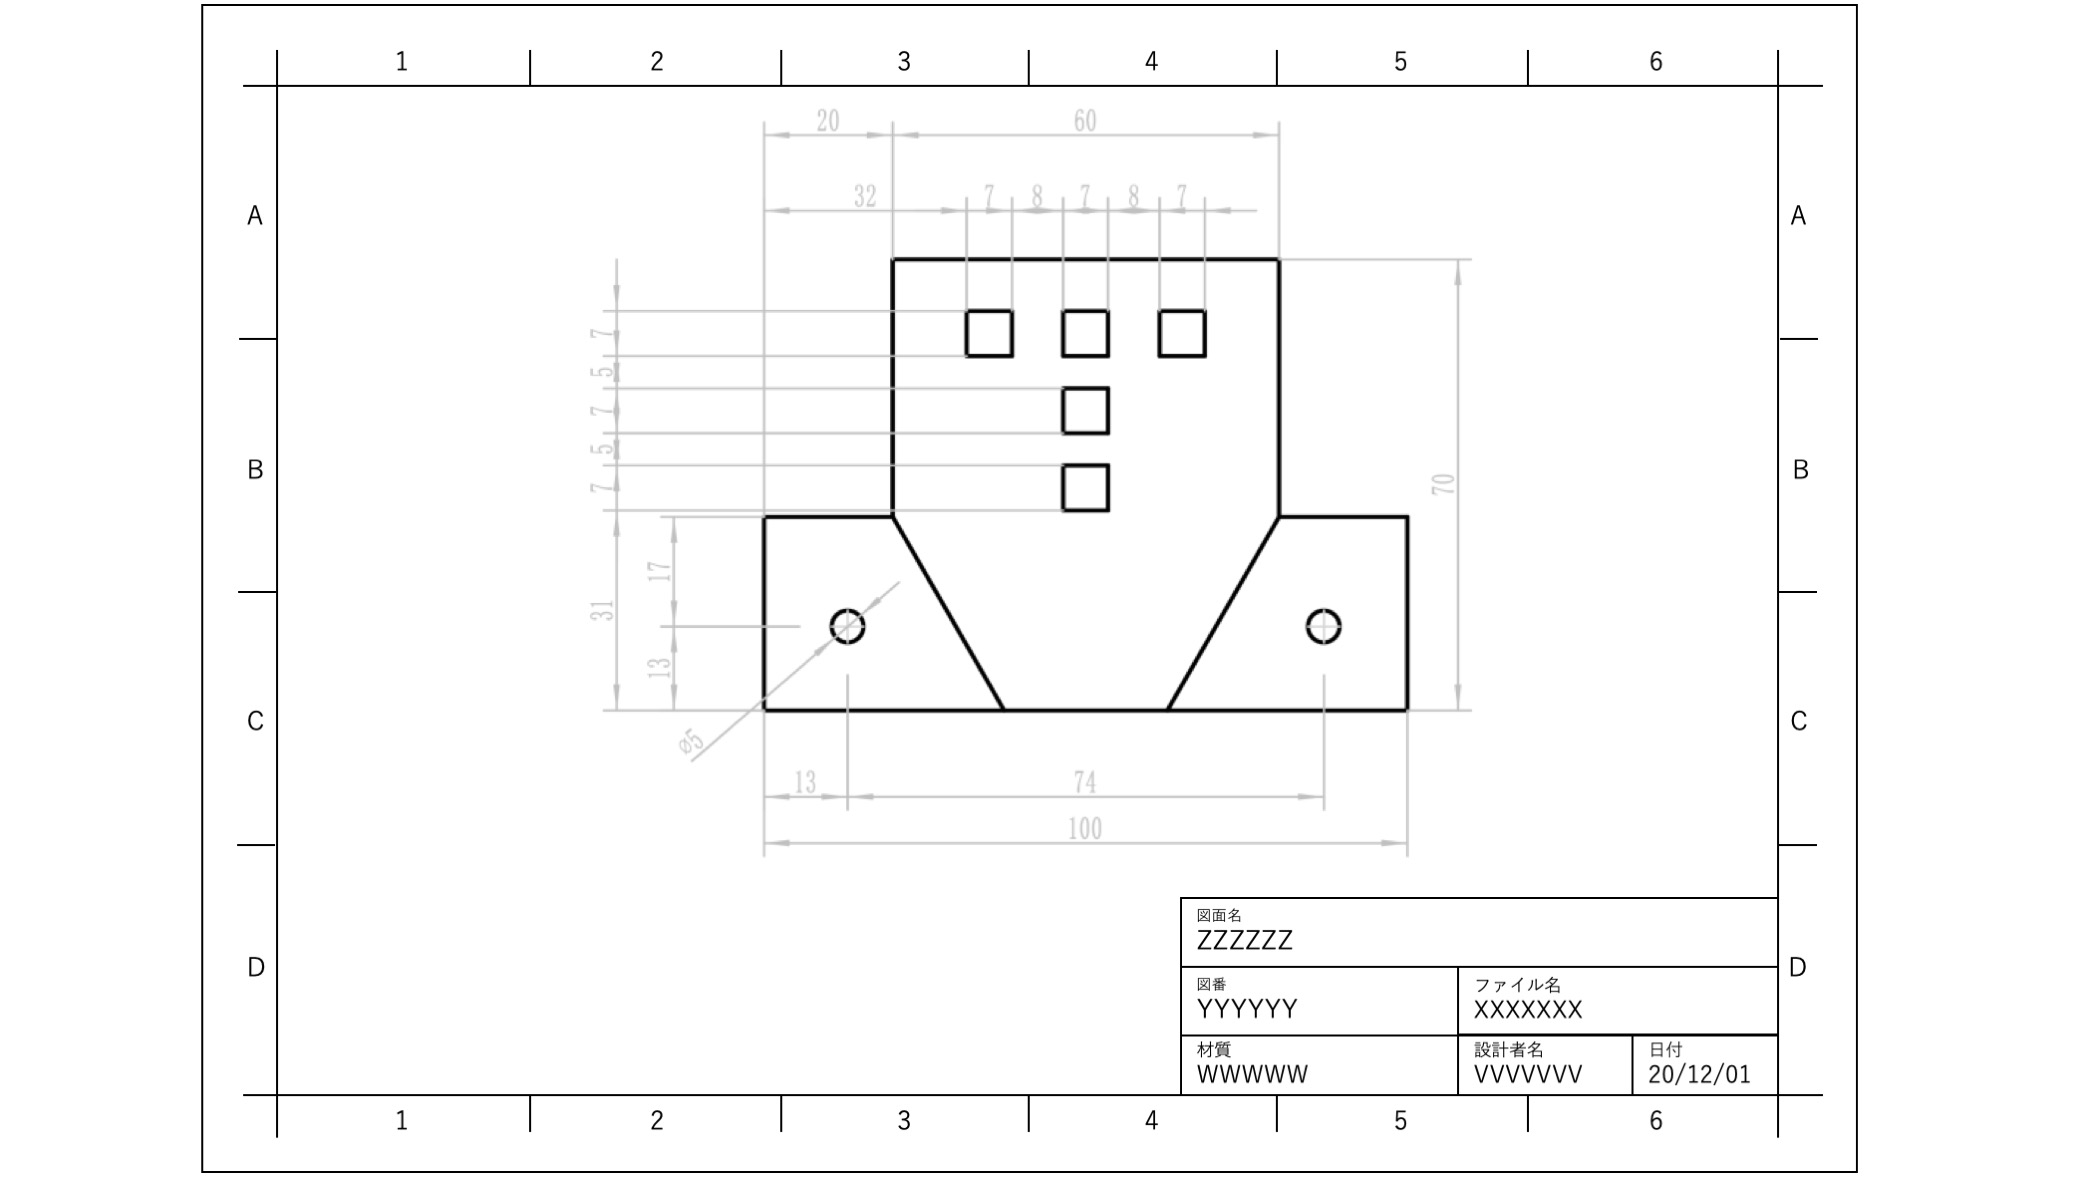circle: (1297, 609, 1354, 650), (824, 609, 870, 646)
rectangle: (1053, 298, 1118, 366), (958, 298, 1021, 366), (1150, 300, 1213, 361), (1054, 459, 1113, 513), (1059, 381, 1113, 438)
